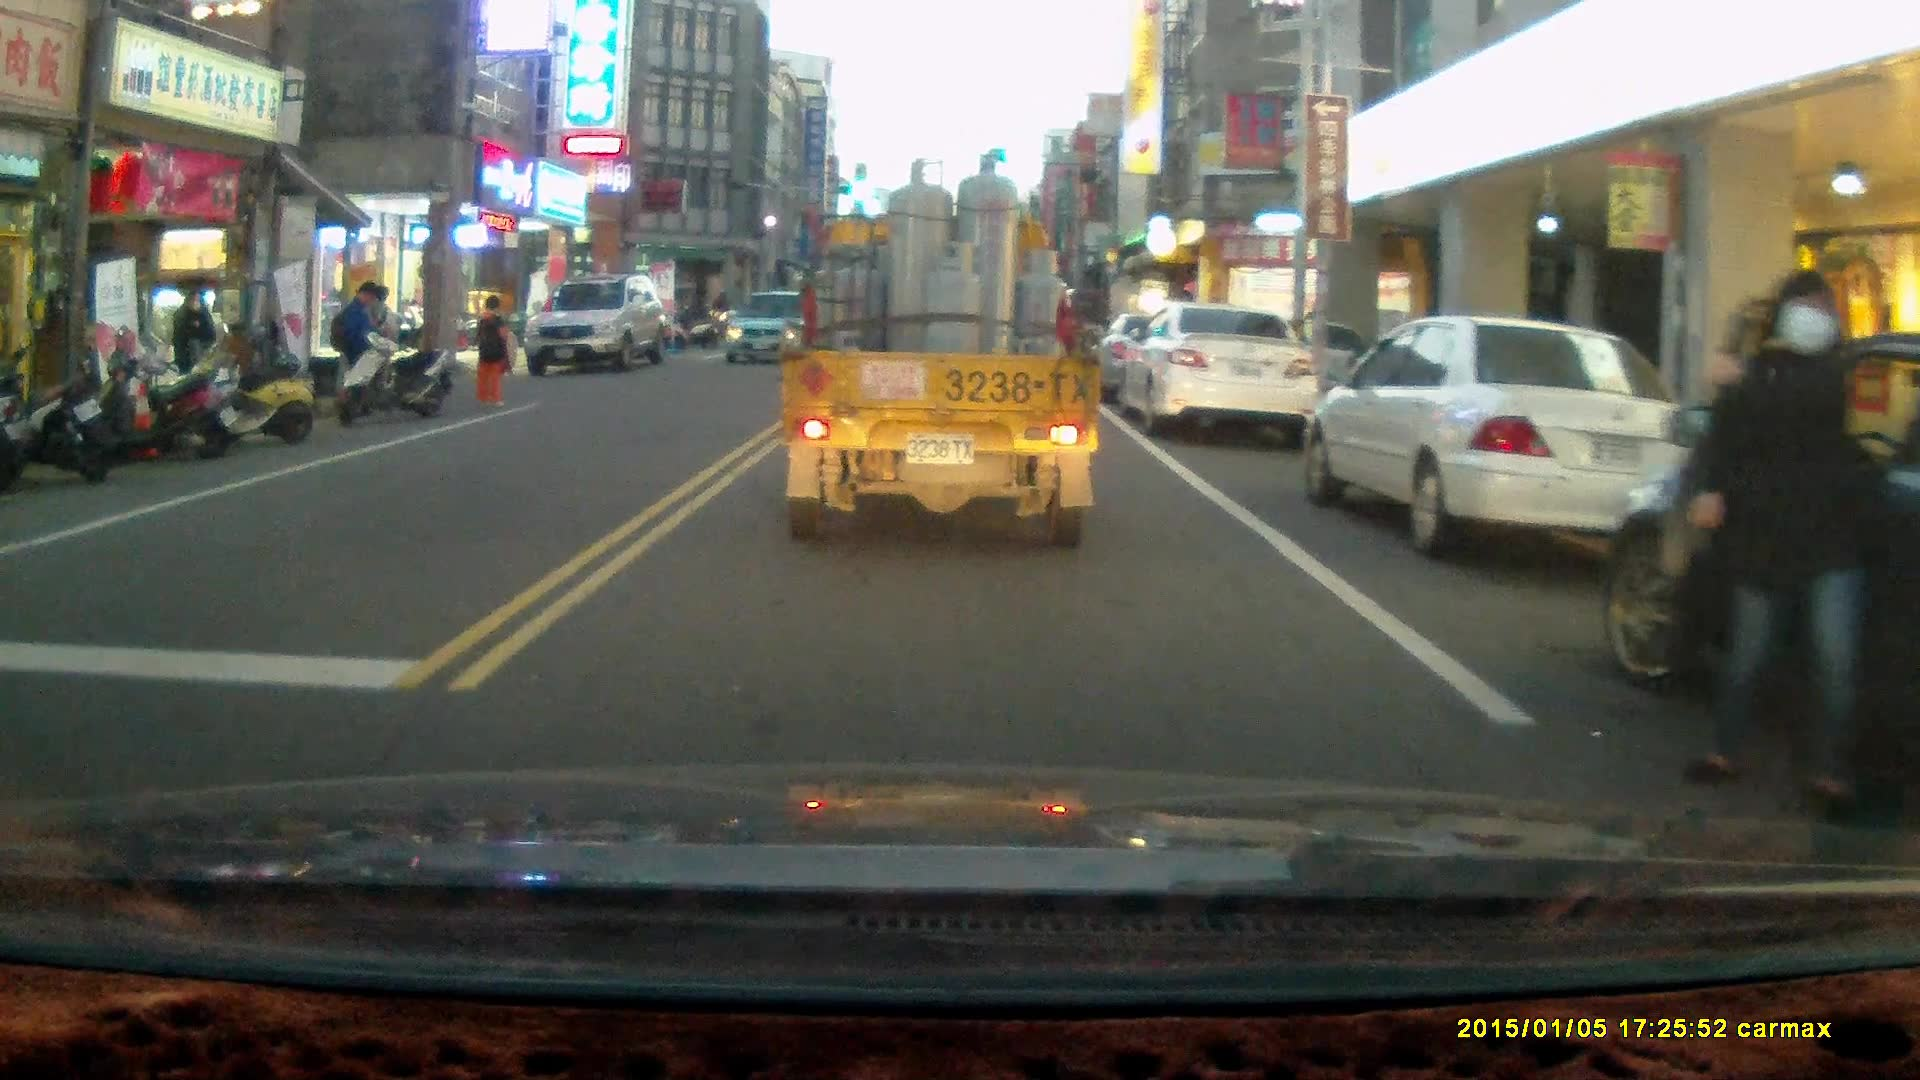pedestrian: (1679, 265, 1872, 824), (320, 278, 376, 413), (168, 285, 212, 425), (472, 292, 515, 410)
vehicle: (1599, 327, 1920, 798), (775, 153, 1104, 548), (1297, 313, 1722, 558), (1124, 304, 1317, 435), (527, 276, 677, 372), (723, 290, 823, 369)
